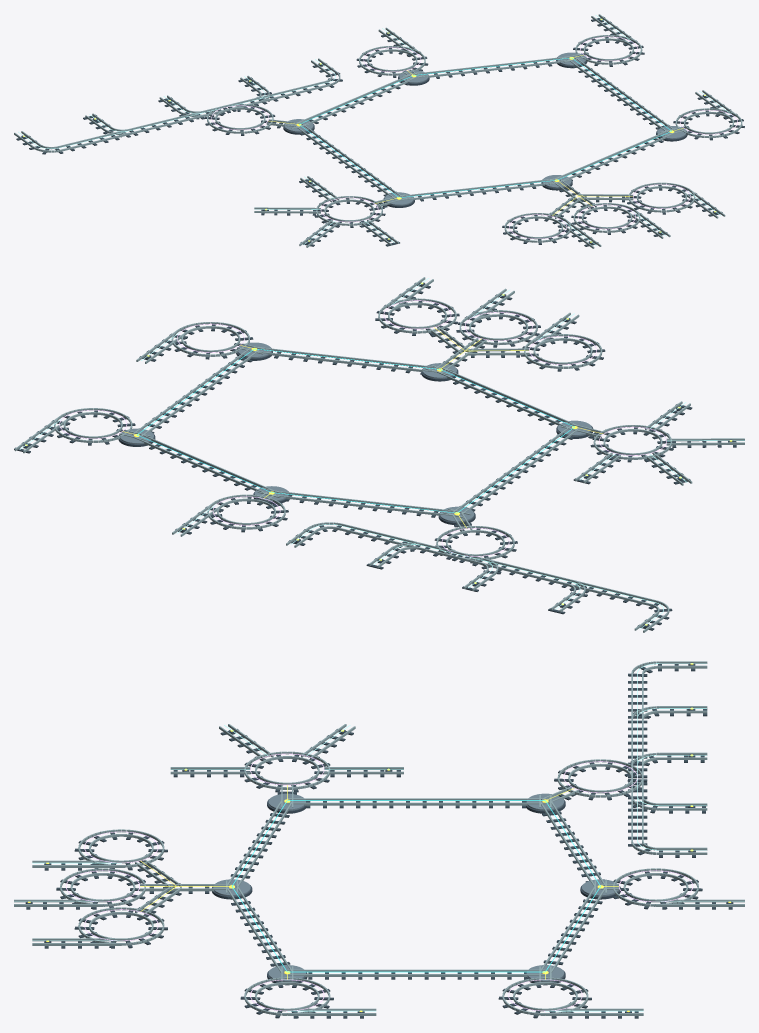
File: track.glb
3 renders of one model, top to bottom at view 1: azimuth 30°, elevation 25°; view 2: azimuth 150°, elevation 25°; view 3: azimuth 270°, elevation 25°, orthographic. The views are drawn at different scales.
Parts seen in each view (by area): view 1: Track_area_steel, Track_dock_steel, Track_main_steel, Track_area_sleepers, Track_dock_sleepers, Track_main_sleepers, Track_area_accent, Track_branch_steel, Track_dock_accent, Track_main_accent; view 2: Track_area_steel, Track_dock_steel, Track_main_steel, Track_area_sleepers, Track_dock_sleepers, Track_main_sleepers, Track_area_accent, Track_branch_steel, Track_dock_accent, Track_main_accent; view 3: Track_area_steel, Track_dock_steel, Track_main_steel, Track_area_sleepers, Track_dock_sleepers, Track_main_sleepers, Track_dock_accent, Track_area_accent, Track_branch_steel, Track_main_accent.
Boxes of the visible parts, x1,y1,x2,y2 form: Track_area_steel: (207,35,742,242); Track_dock_steel: (14,14,737,248); Track_main_steel: (295,56,675,200); Track_area_sleepers: (204,37,744,244); Track_dock_sleepers: (16,16,737,246); Track_main_sleepers: (300,60,669,201); Track_area_accent: (211,36,737,238); Track_branch_steel: (266,53,686,218); Track_dock_accent: (18,15,732,245); Track_main_accent: (299,57,671,197); Track_area_steel: (54,298,672,560); Track_dock_steel: (14,277,744,632); Track_main_steel: (132,347,579,515); Track_area_sleepers: (51,299,673,563); Track_dock_sleepers: (14,282,736,630); Track_main_sleepers: (139,351,573,517); Track_area_accent: (59,300,666,556); Track_branch_steel: (119,326,606,531); Track_dock_accent: (19,278,744,629); Track_main_accent: (137,348,574,513); Track_area_steel: (60,751,698,1015); Track_dock_steel: (14,661,744,1015); Track_main_steel: (226,798,606,976); Track_area_sleepers: (56,754,702,1018); Track_dock_sleepers: (26,664,732,1018); Track_main_sleepers: (227,801,604,979); Track_dock_accent: (14,663,744,1011); Track_area_accent: (65,753,693,1011); Track_branch_steel: (135,785,619,982); Track_main_accent: (231,800,600,972).
Bounding box in the file's own units: 45.64 × 0.284 × 39.65.
